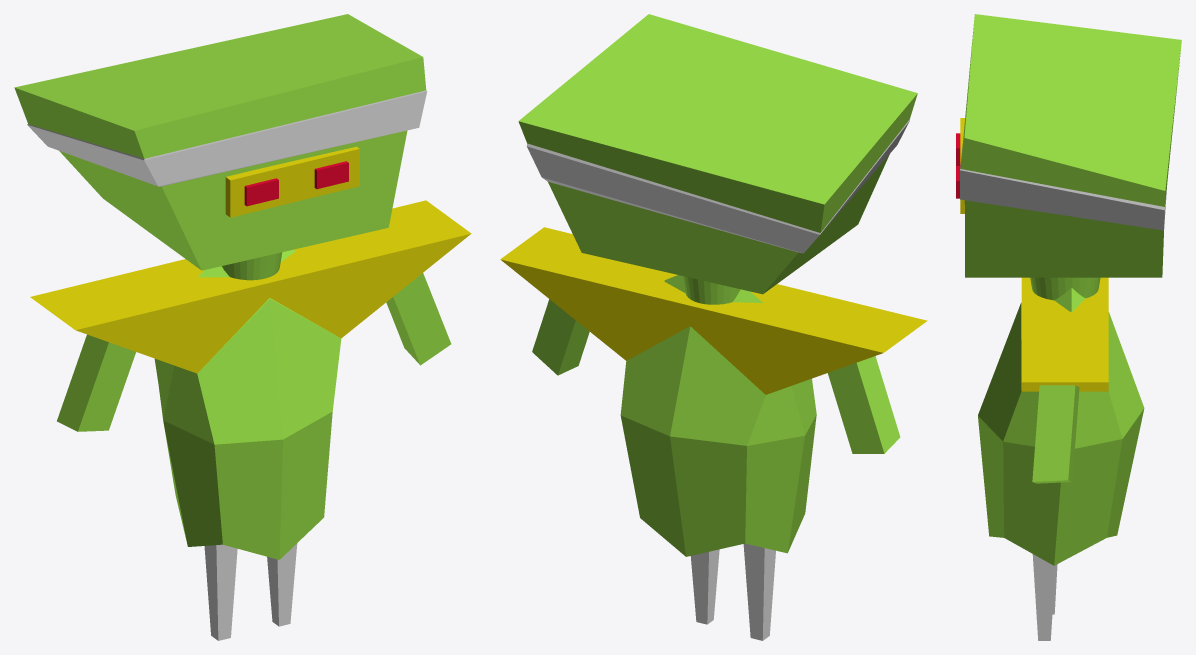
The model's file is green-partier.gltf.
3 renders of one model, left to right at view 1: azimuth 30°, elevation 25°; view 2: azimuth 150°, elevation 25°; view 3: azimuth 270°, elevation 25°, orthographic. The views are drawn at different scales.
Visible parts, largest first — view 1: chest; view 2: chest; view 3: chest.
Boxes of the visible parts, x1=… form: chest: x1=14, y1=14, x2=471, y2=640; chest: x1=500, y1=14, x2=927, y2=640; chest: x1=956, y1=14, x2=1181, y2=640.
Size of the model in its own units: 44.33 by 61.25 by 22.88.
